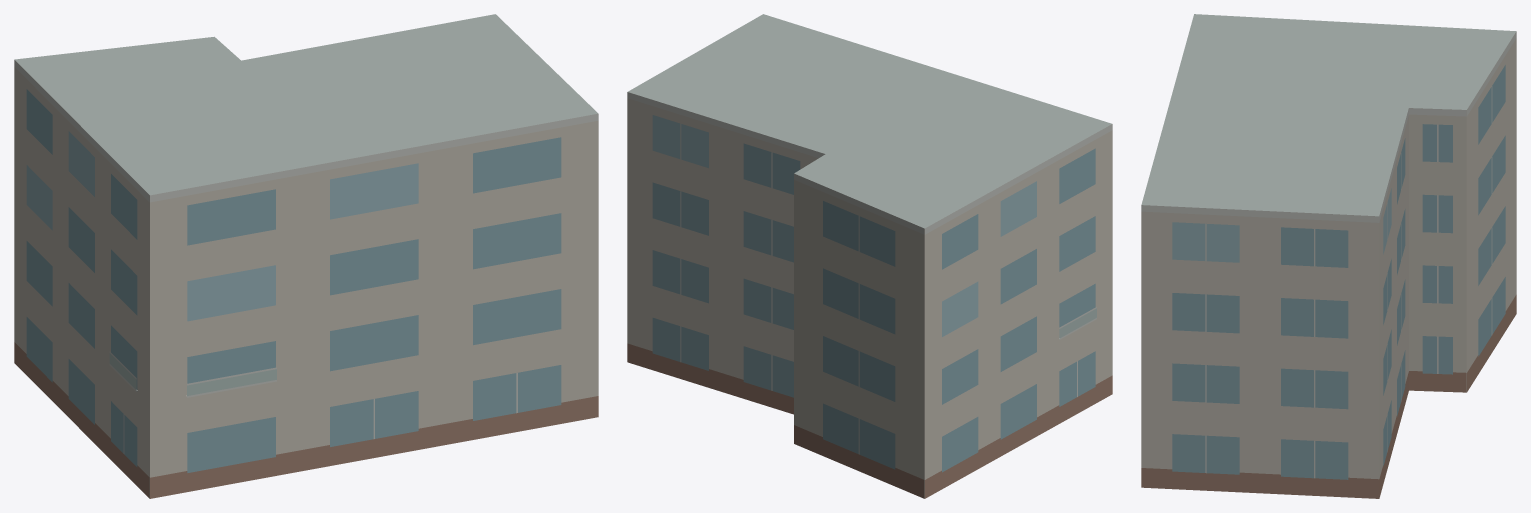
File: survey-upis-32541616.glb
The picture shows the model from 3 angles, left to right: view 1: azimuth 30°, elevation 25°; view 2: azimuth 150°, elevation 25°; view 3: azimuth 270°, elevation 25°; orthographic projection. The views are drawn at different scales.
Visible parts, largest first — view 1: survey-upis-32541616.tmp; view 2: survey-upis-32541616.tmp; view 3: survey-upis-32541616.tmp.
Part boxes in pixels (<box>): survey-upis-32541616.tmp: <box>14,14,598,498</box>; survey-upis-32541616.tmp: <box>627,14,1112,498</box>; survey-upis-32541616.tmp: <box>1141,14,1516,498</box>.
Bounding box in the file's own units: 16.13 × 10.5 × 12.65.
